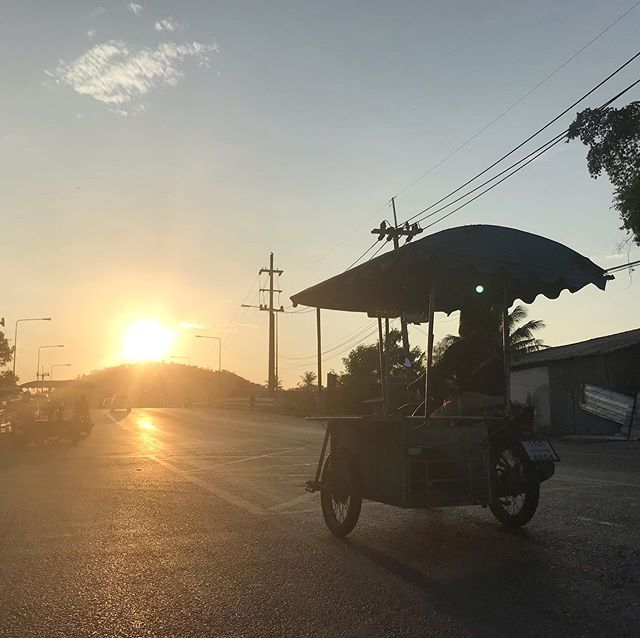food stand: (314, 235, 588, 542)
sky: (5, 7, 640, 358)
street: (14, 412, 638, 626)
sun: (109, 305, 183, 376)
